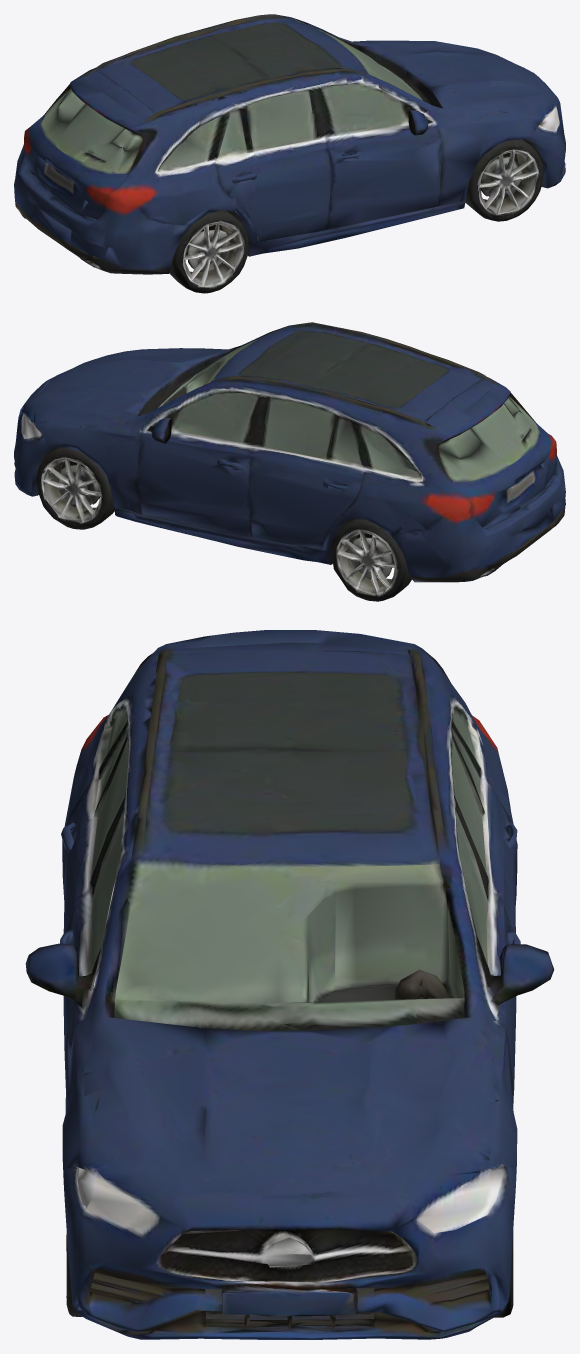
File: car2.glb
3 views of the same model, one above another, from view 1: azimuth 30°, elevation 25°; view 2: azimuth 150°, elevation 25°; view 3: azimuth 270°, elevation 25° (orthographic). The views are drawn at different scales.
Visible parts, largest first — view 1: tripo_node_db0372ed-8720-46f7-b9e5-e9816553c3d7; view 2: tripo_node_db0372ed-8720-46f7-b9e5-e9816553c3d7; view 3: tripo_node_db0372ed-8720-46f7-b9e5-e9816553c3d7.
Boxes of the visible parts, left/top/right/bottom form: tripo_node_db0372ed-8720-46f7-b9e5-e9816553c3d7: left=14, top=14, right=565, bottom=293; tripo_node_db0372ed-8720-46f7-b9e5-e9816553c3d7: left=14, top=322, right=565, bottom=601; tripo_node_db0372ed-8720-46f7-b9e5-e9816553c3d7: left=25, top=630, right=554, bottom=1339.
Size of the model in its own units: 4.29 by 1.5 by 1.99.
1 material, 1 textured.
